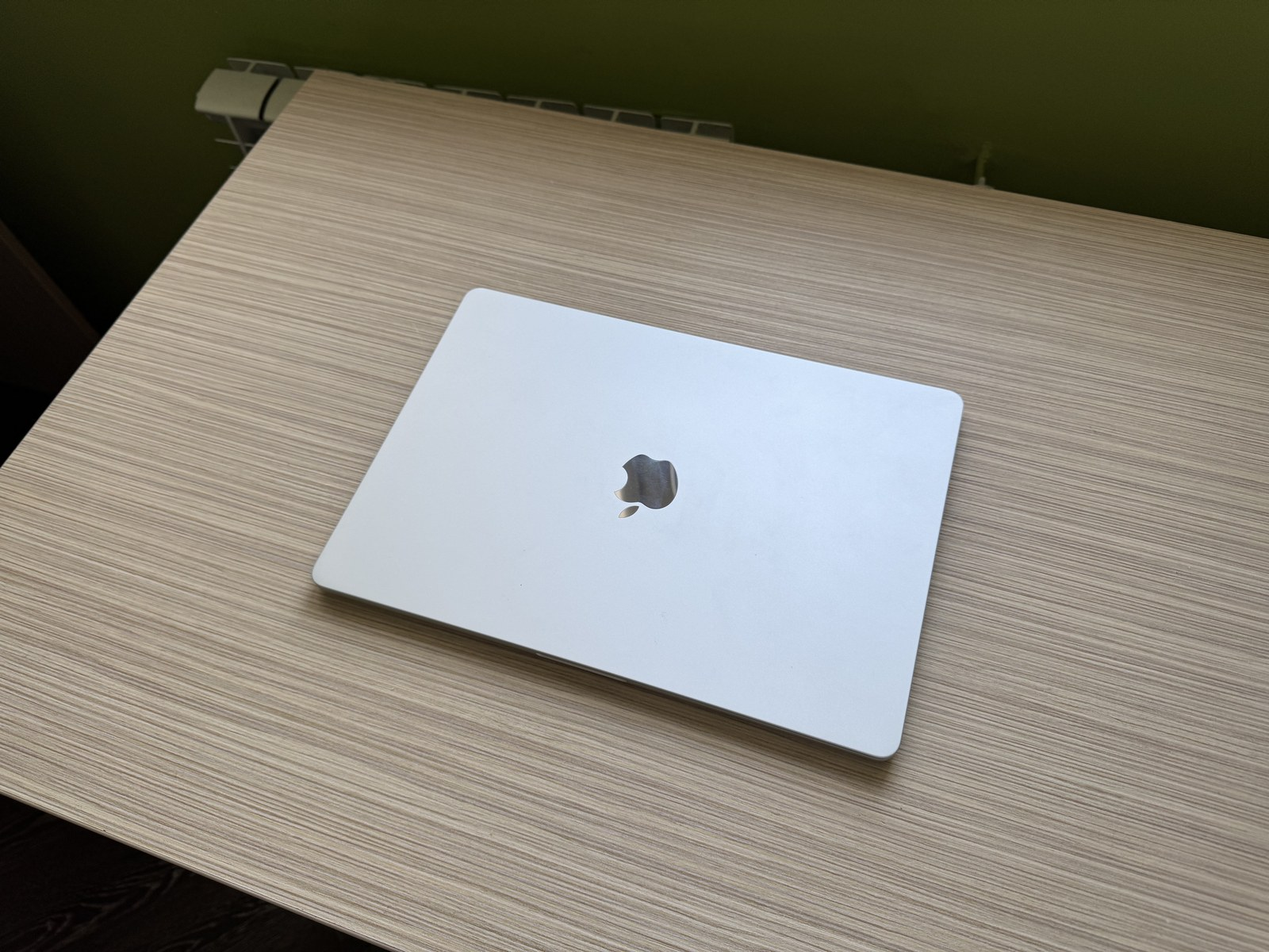laptop: (311, 286, 965, 760)
